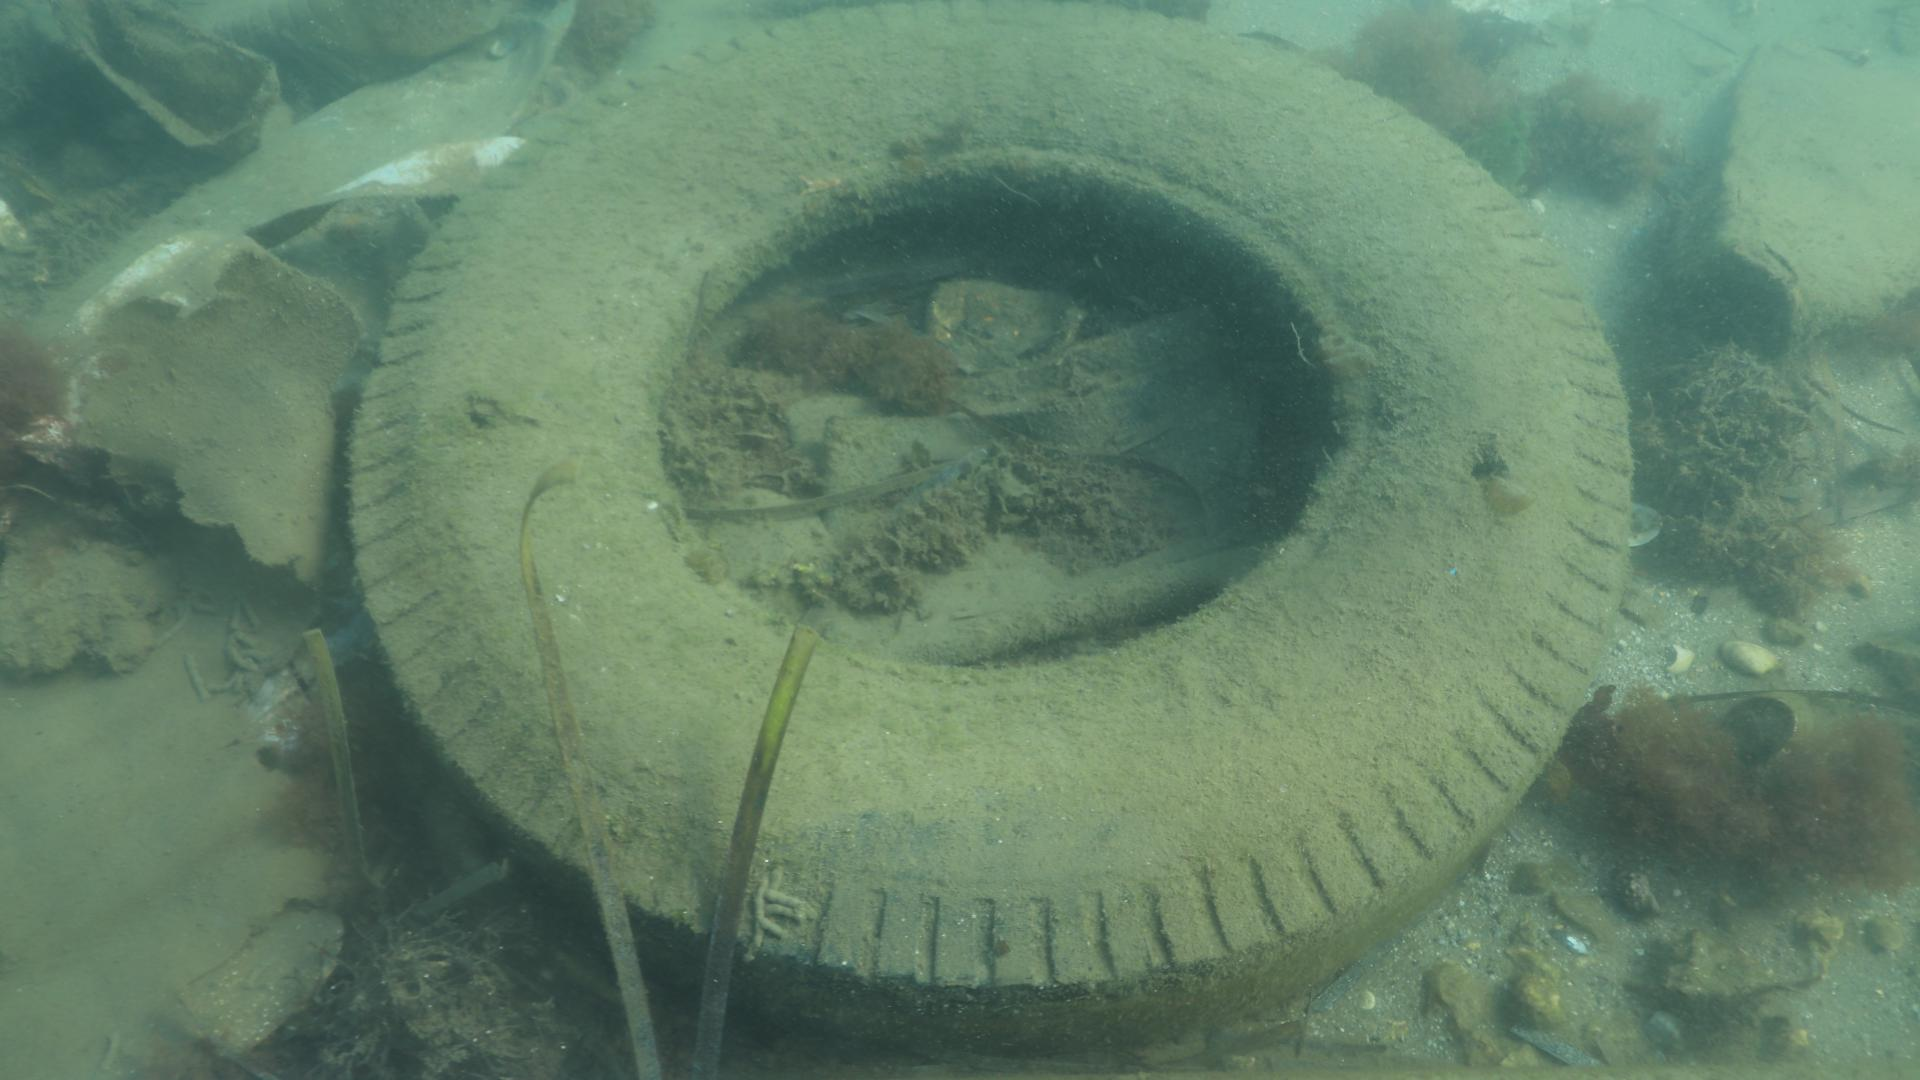tire: (349, 0, 1631, 1058)
